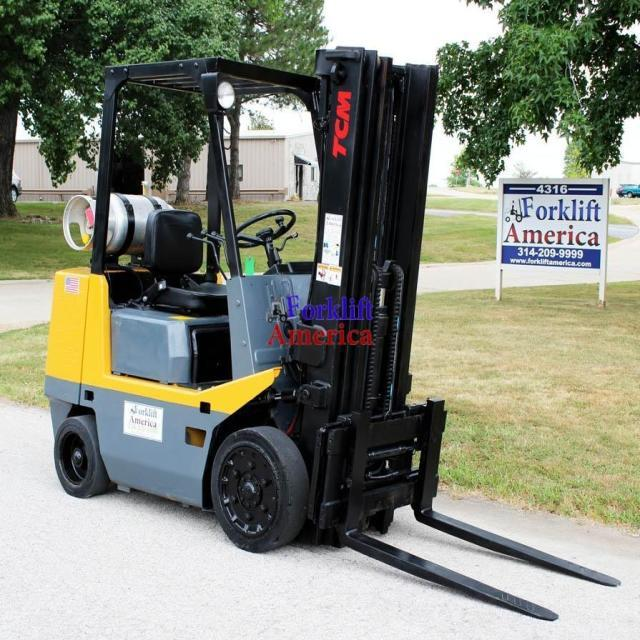forklift: (24, 51, 478, 561)
